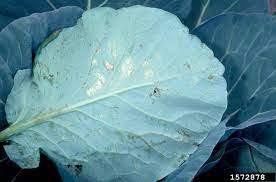Bok-Choy-Diseased: (15, 12, 222, 174)
